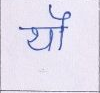au_matra: (51, 6, 70, 50)
